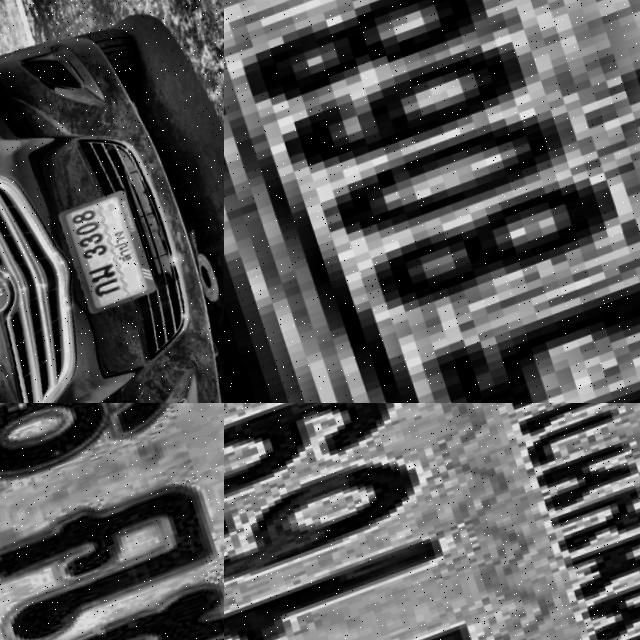license-plate: (224, 0, 640, 403), (224, 403, 640, 640), (0, 403, 224, 640), (48, 197, 154, 327)
